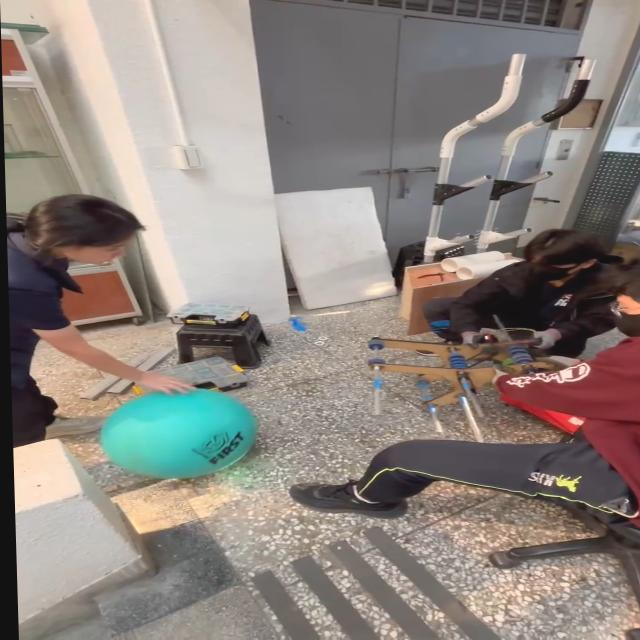ALGAE: (95, 388, 260, 480)
